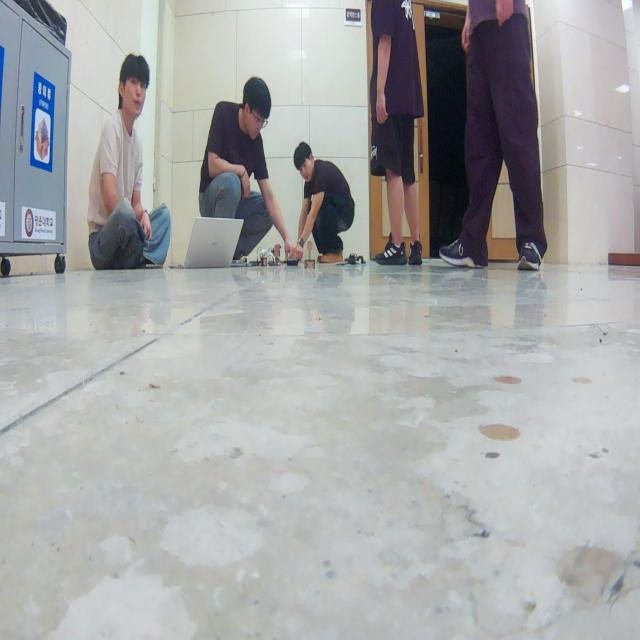target: (304, 240, 316, 270)
